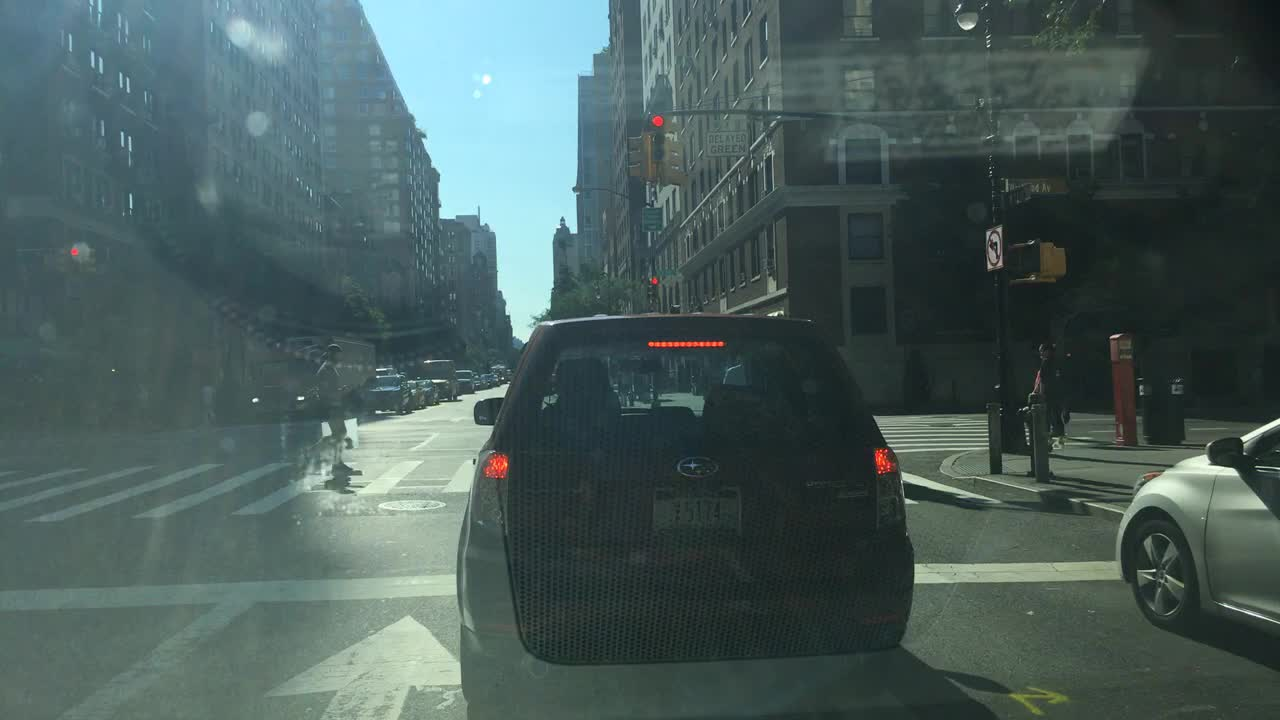car: (454, 312, 918, 717), (1111, 404, 1278, 643), (350, 369, 417, 421), (429, 370, 462, 400), (416, 378, 441, 405), (405, 379, 424, 409), (456, 370, 477, 393), (490, 365, 509, 384), (473, 373, 485, 389), (489, 370, 500, 387), (479, 374, 493, 387), (506, 368, 515, 383), (1051, 621, 1061, 623)
person: (300, 342, 356, 483), (1025, 339, 1070, 450), (903, 347, 935, 411)
traffic light: (1021, 241, 1067, 283), (628, 134, 652, 178), (647, 110, 668, 160), (666, 138, 685, 183), (651, 275, 659, 293)
traffic sign: (706, 128, 750, 156), (1000, 177, 1068, 194), (983, 223, 1006, 270), (994, 184, 1034, 203), (640, 206, 664, 231)
truck: (246, 337, 377, 422), (421, 359, 461, 403)
